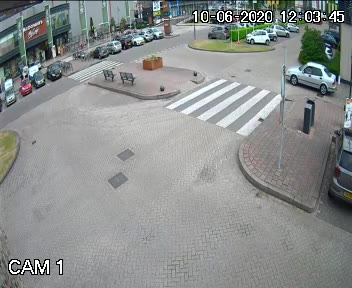car: (280, 56, 336, 100)
